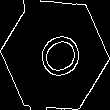O_SW: (26, 24, 84, 86)
